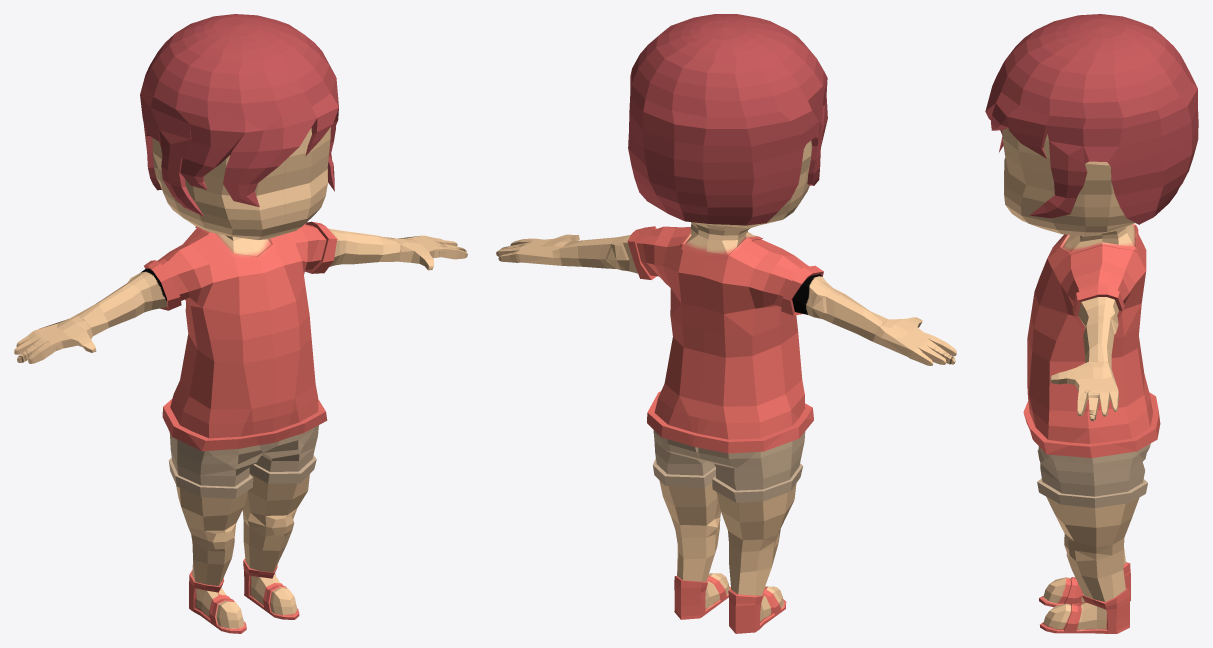
File: SallyDawnNeutra2.fbx
3 views of the same model, side by side, from view 1: azimuth 30°, elevation 25°; view 2: azimuth 150°, elevation 25°; view 3: azimuth 270°, elevation 25° (orthographic).
Parts seen in each view (by area): view 1: SallyDawnNeutra; view 2: SallyDawnNeutra; view 3: SallyDawnNeutra.
Boxes of the visible parts, x1,y1,x2,y2 form: SallyDawnNeutra: (14,14,467,633); SallyDawnNeutra: (496,14,956,633); SallyDawnNeutra: (985,14,1198,633).
Size of the model in its own units: 512 by 632 by 208.
Materials: 1 (1 with a texture image).
